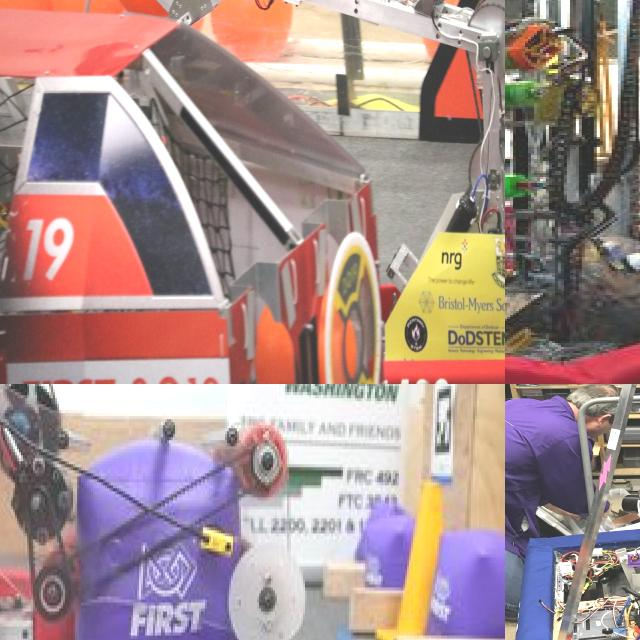FRC-Robots: (32, 0, 505, 384), (0, 384, 323, 640), (505, 0, 640, 384), (380, 0, 505, 384), (505, 384, 640, 640)
